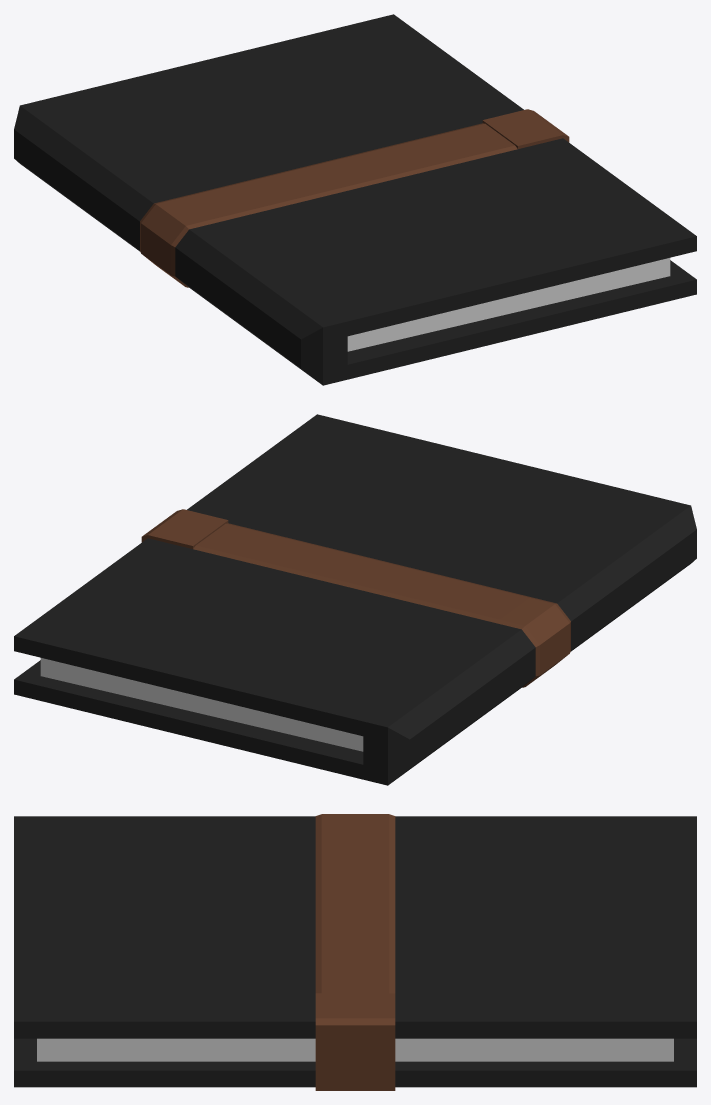
The model's file is AgendaClosedV1Black.fbx.
3 renders of one model, top to bottom at view 1: azimuth 30°, elevation 25°; view 2: azimuth 150°, elevation 25°; view 3: azimuth 270°, elevation 25°, orthographic. The views are drawn at different scales.
Visible parts, largest first — view 1: AgendaClosedV1Black; view 2: AgendaClosedV1Black; view 3: AgendaClosedV1Black.
Boxes of the visible parts, <box> form: AgendaClosedV1Black: <box>14,14,696,385</box>; AgendaClosedV1Black: <box>14,414,696,785</box>; AgendaClosedV1Black: <box>14,814,696,1090</box>.
Bounding box in the file's own units: 14.2 × 2.21 × 18.84.
